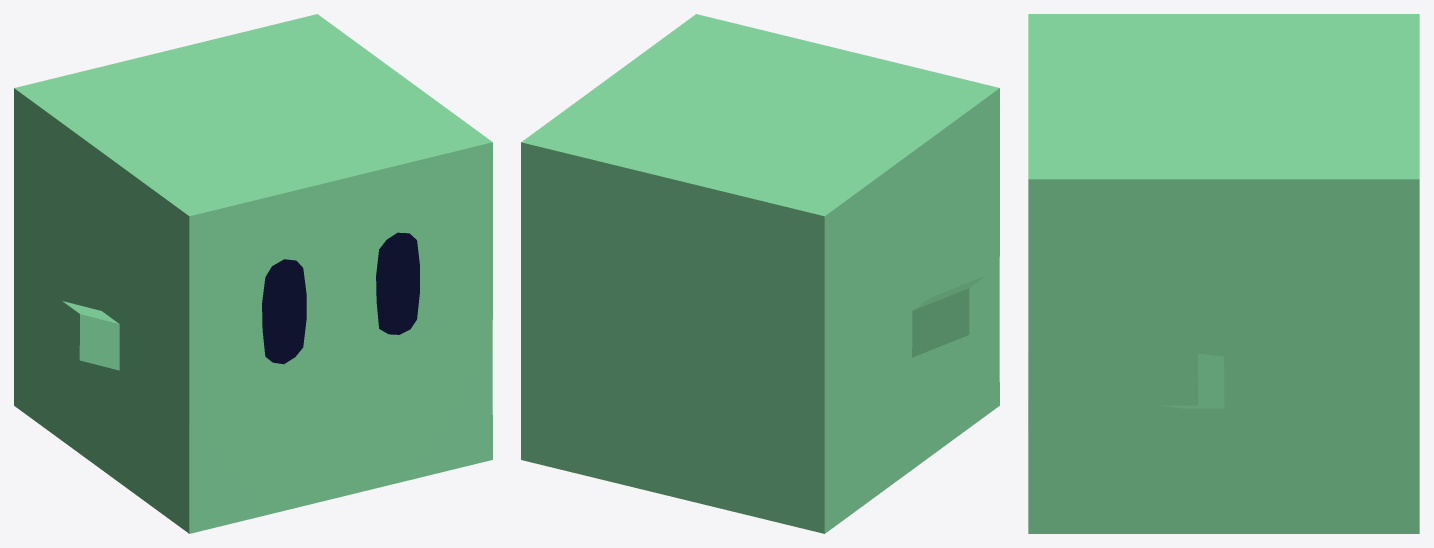
The model's file is cube_minion.dae.
3 renders of one model, left to right at view 1: azimuth 30°, elevation 25°; view 2: azimuth 150°, elevation 25°; view 3: azimuth 270°, elevation 25°, orthographic. The views are drawn at different scales.
Visible parts, largest first — view 1: Cube; view 2: Cube; view 3: Cube.
Boxes of the visible parts, x1,y1,x2,y2 form: Cube: [14, 14, 492, 533]; Cube: [521, 14, 999, 533]; Cube: [1028, 14, 1419, 533].
Bounding box in the file's own units: 2.6 × 2 × 2.
Materials: 2 (2 with a texture image).
